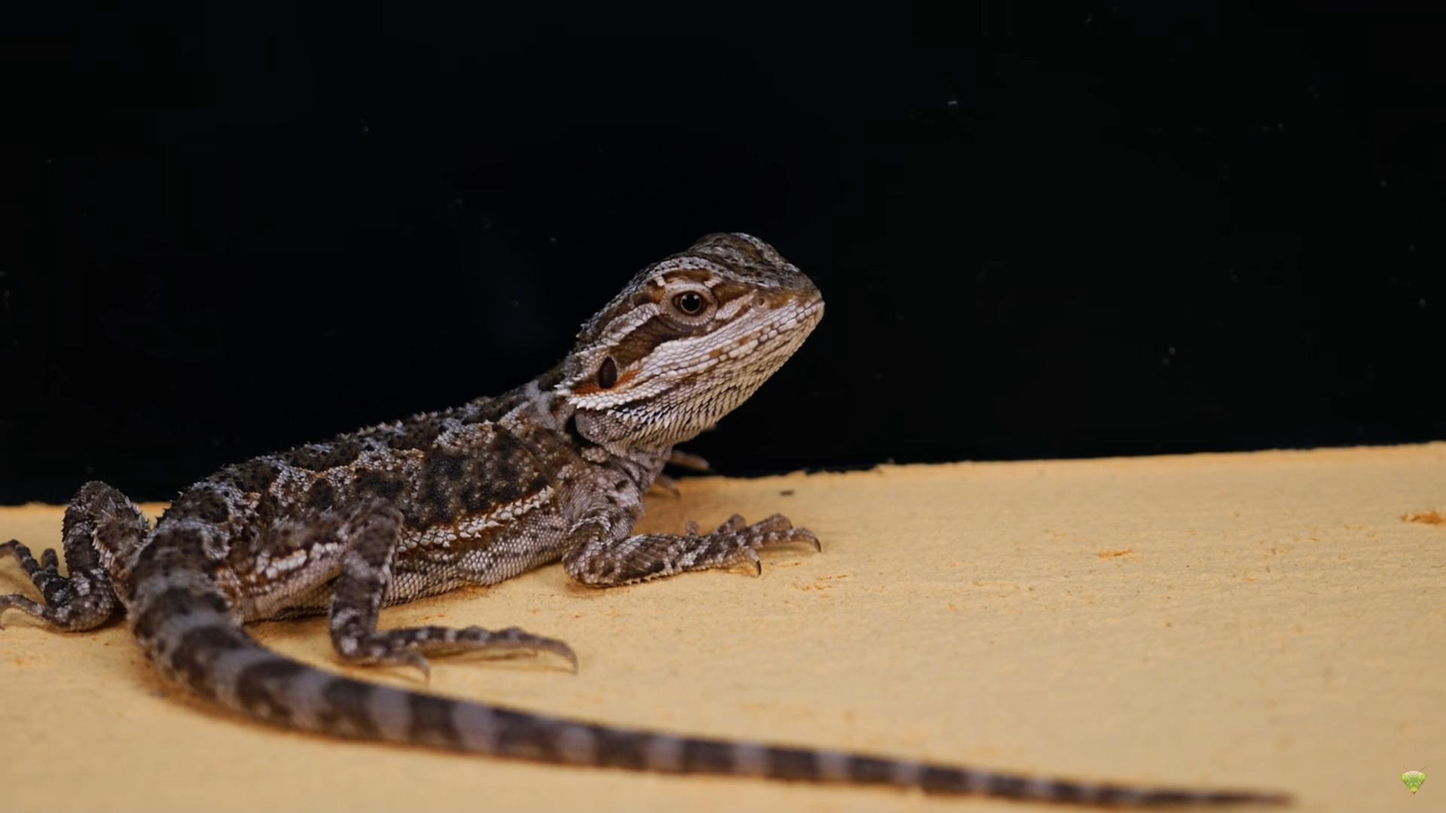lizard: (33, 228, 895, 785)
